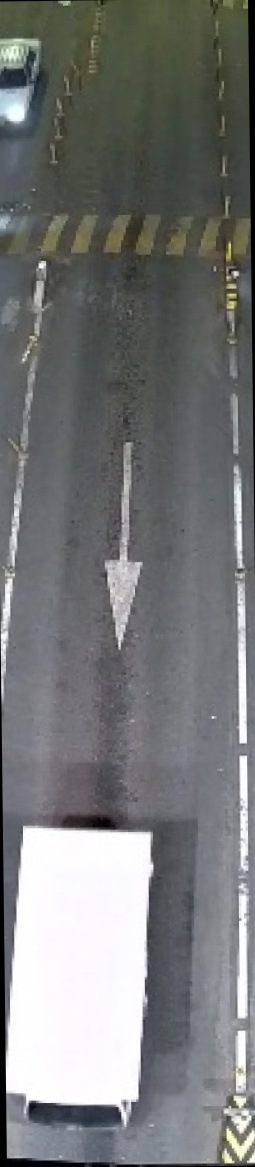car: (0, 22, 52, 147)
truck: (8, 815, 168, 1146)
